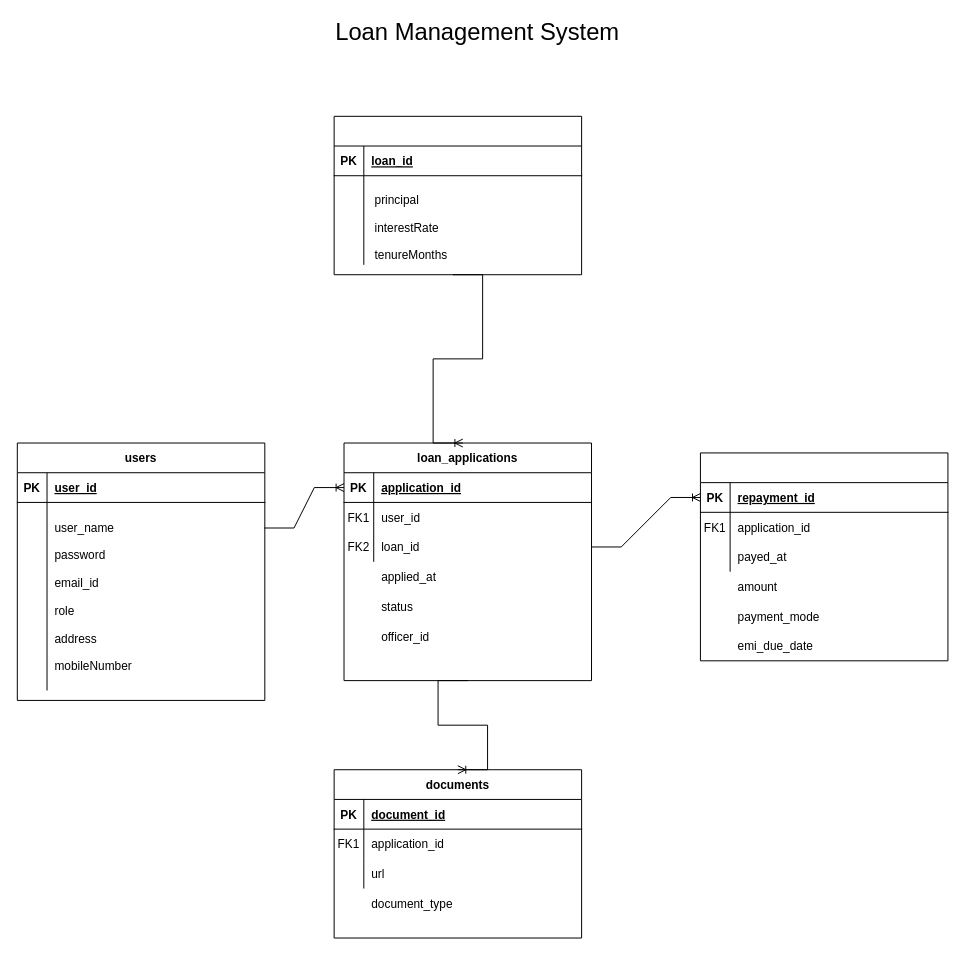
Some shapes in this 965 by 955 pixel diagram are drawn without their labels. The box of each missing label's shape, as (x1, y1, x2, y2) in pixels:
loan_repayment: (699, 452, 948, 661)
loan_schemes: (333, 115, 582, 275)
